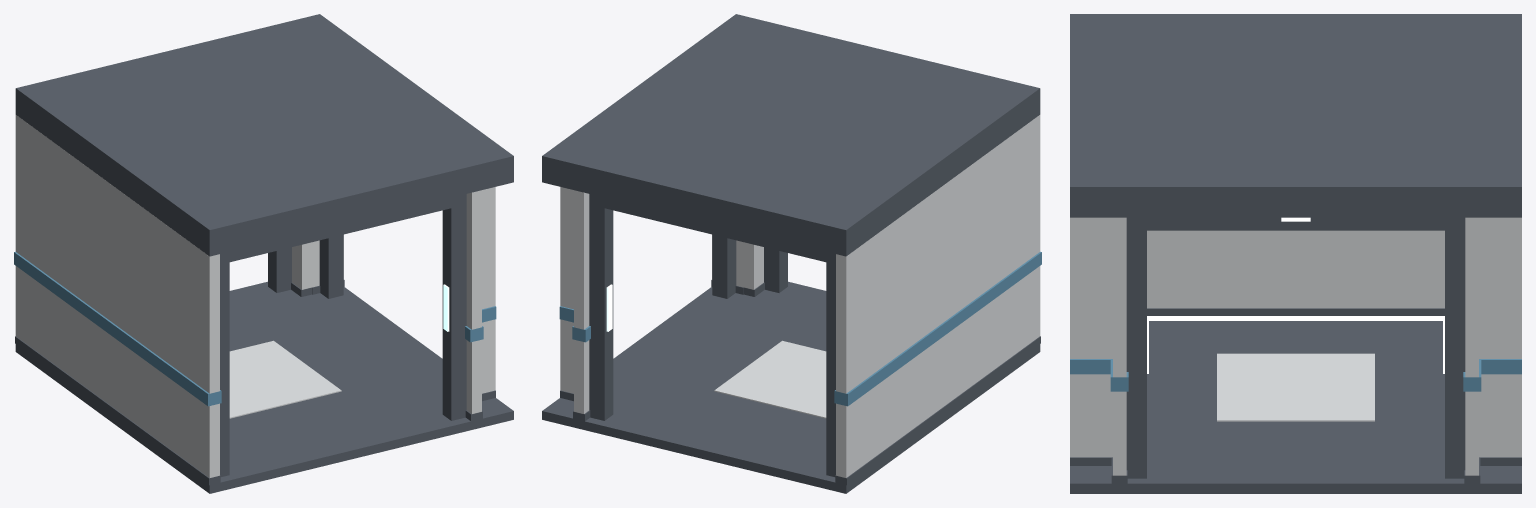
The model's file is spaceship-deck-kit-corridor-tee-1f64b90e__12551.glb.
The picture shows the model from 3 angles, left to right: view 1: azimuth 30°, elevation 25°; view 2: azimuth 150°, elevation 25°; view 3: azimuth 270°, elevation 25°; orthographic projection. The views are drawn at different scales.
Visible parts, largest first — view 1: corridor-tee; view 2: corridor-tee; view 3: corridor-tee.
Boxes of the visible parts, box(x1,y1,x2,y2) form: corridor-tee: box(14, 14, 513, 493); corridor-tee: box(542, 14, 1041, 493); corridor-tee: box(1070, 14, 1521, 493).
Size of the model in its own units: 3.68 by 3 by 4.
